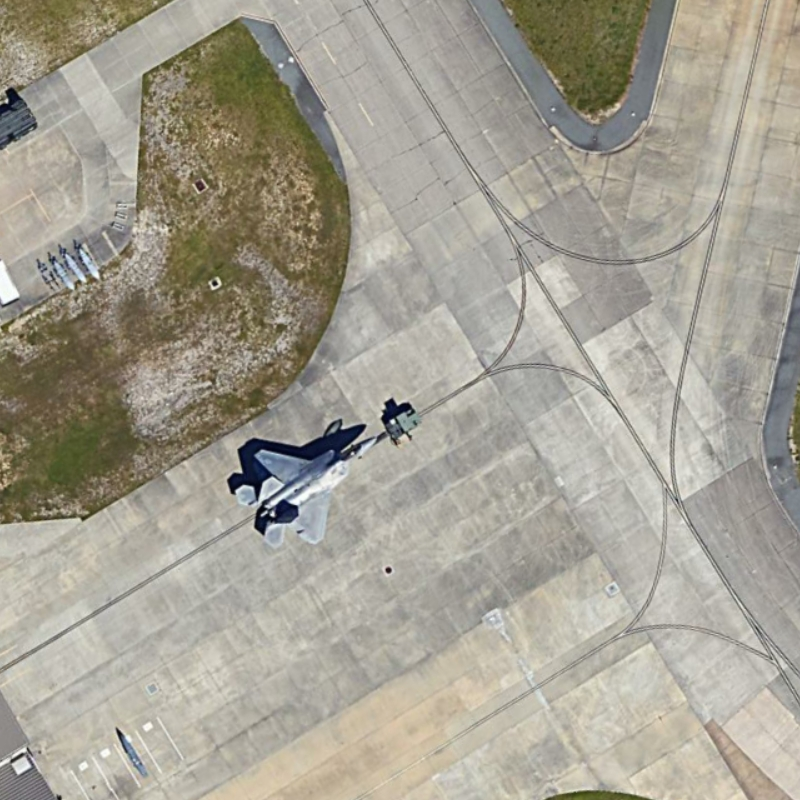A15: (226, 426, 381, 550)
